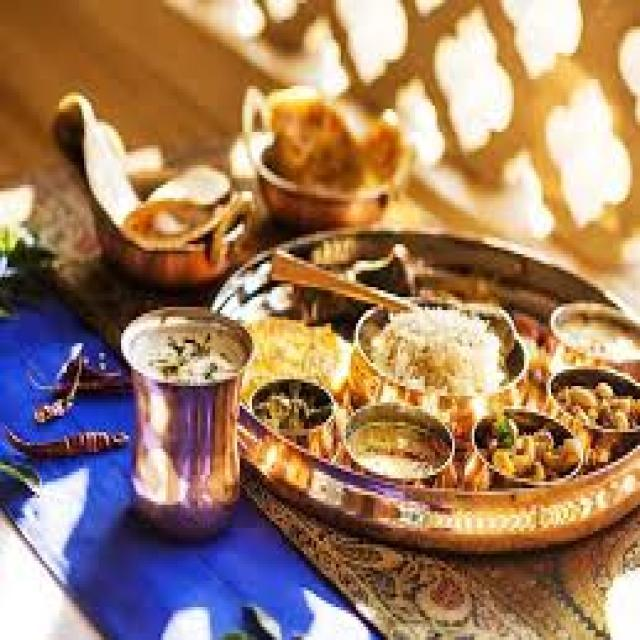dal: (473, 373, 607, 494), (345, 404, 450, 488), (550, 303, 629, 362)
rice: (373, 291, 519, 421), (492, 1, 589, 74)
